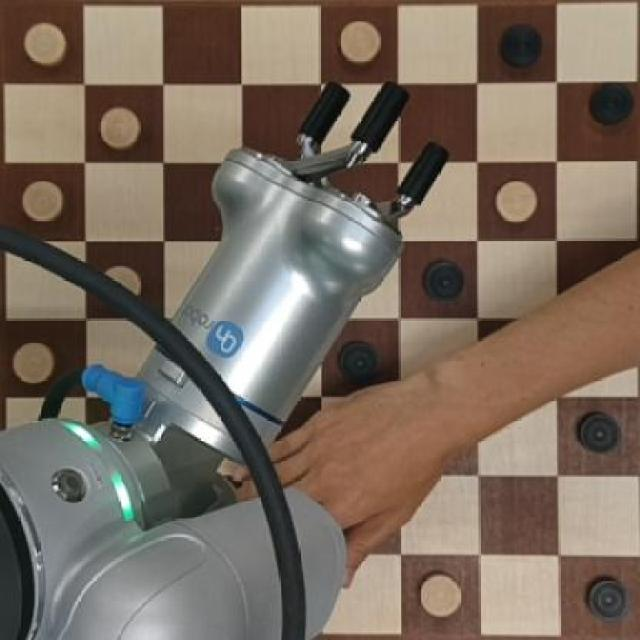black: (489, 15, 544, 77), (578, 568, 633, 626), (580, 76, 635, 130), (571, 403, 624, 459), (414, 254, 468, 307), (338, 340, 383, 384)
white: (485, 171, 549, 232), (411, 560, 470, 622), (17, 170, 70, 226), (331, 16, 386, 69), (17, 21, 71, 73), (94, 104, 145, 155), (10, 336, 59, 386)
